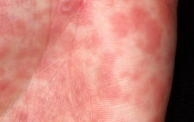SJS-TEN: (0, 0, 177, 122)
